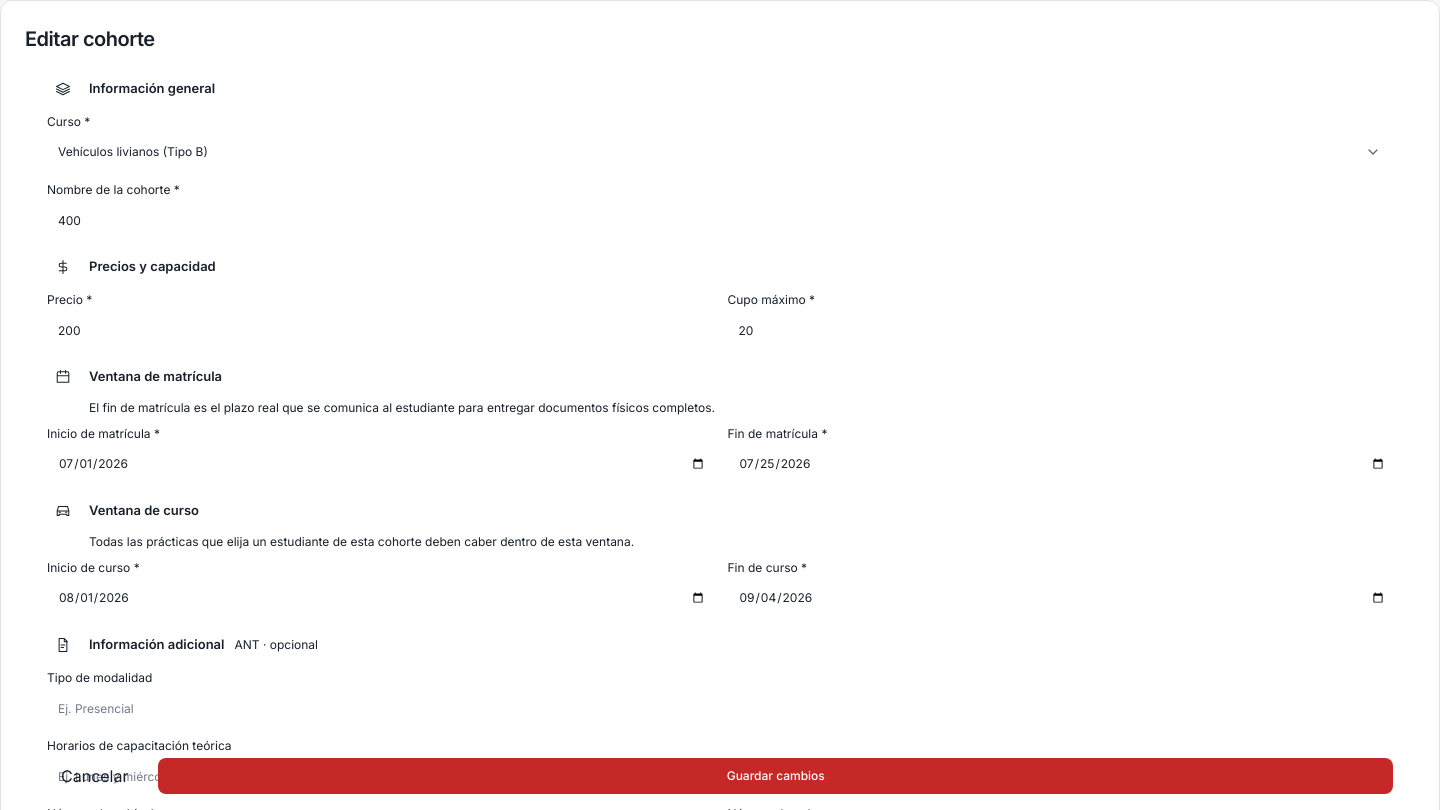
Test: EditCohortPage › conflicto de versión (409) y recarga › un 409 de campo se marca en el campo y también ofrece recargar
Expected: the field labelled "Nombre de la cohorte" is shown, x1=47 y1=203 x2=1393 y2=237
Type "Presencial" into the field labelled "Tipo de modalidad" at (720, 708), box x1=47 y1=691 x2=1393 y2=725
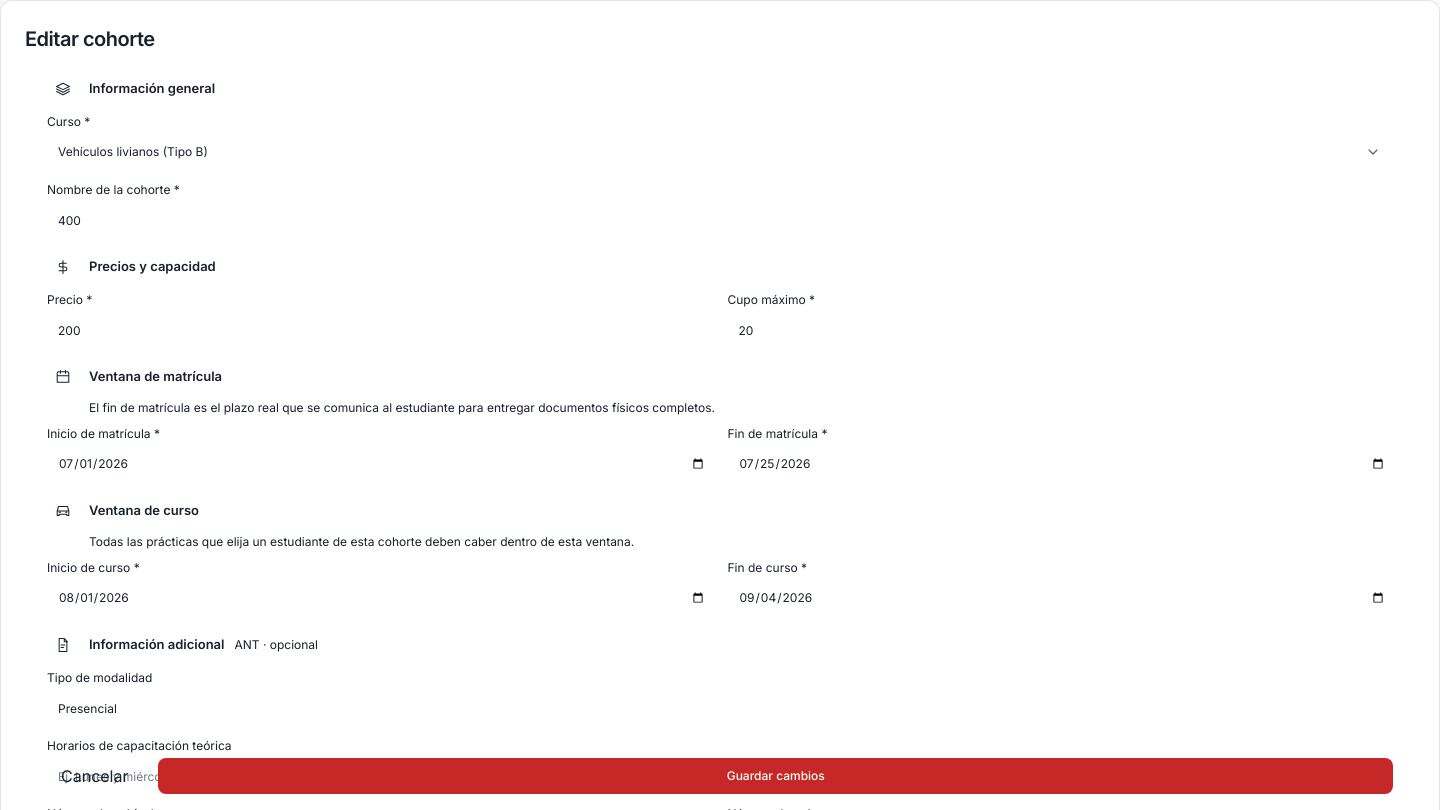
Click the button "Guardar cambios" at (776, 776), box x1=158 y1=758 x2=1393 y2=794
(page scrolled)
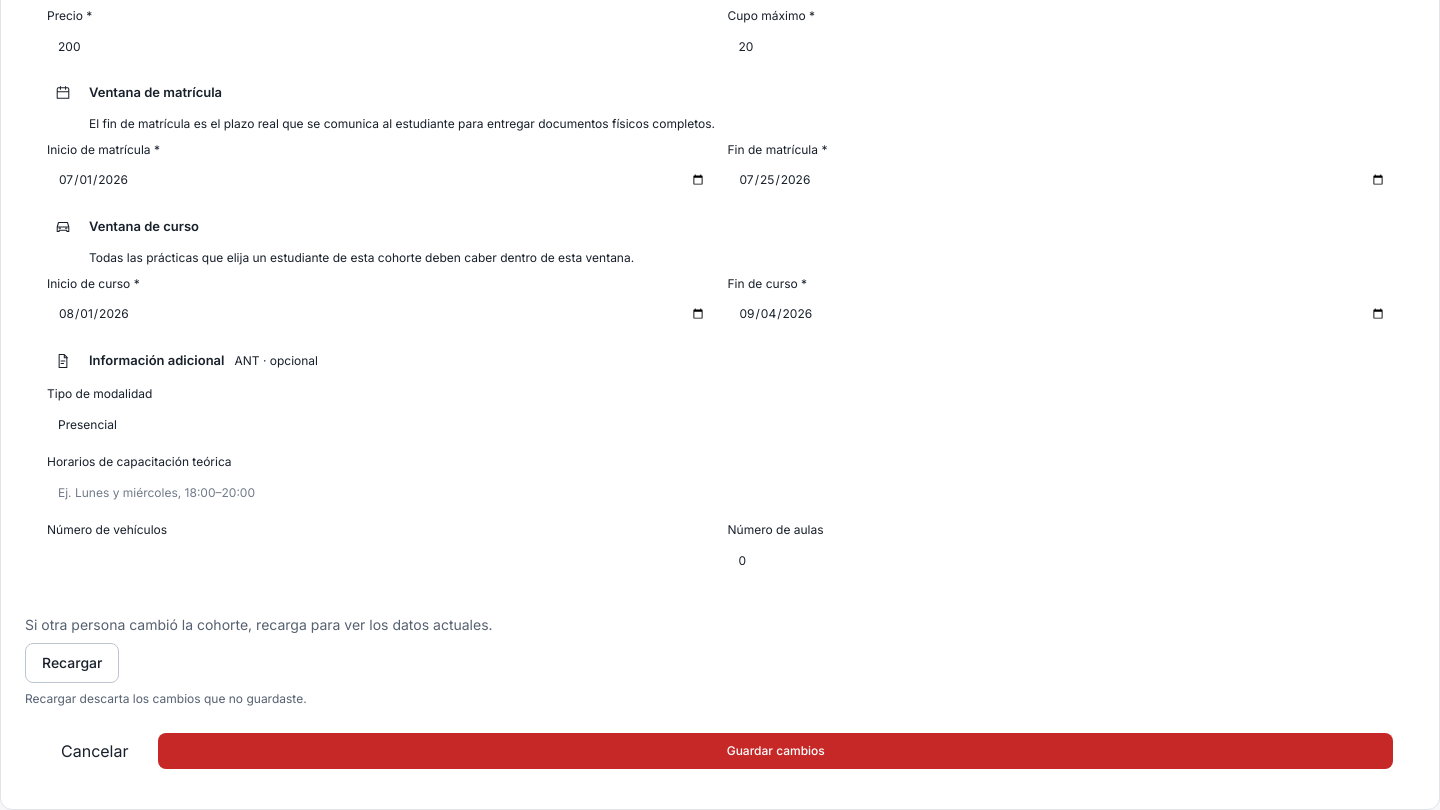
Expected: the text "Si otra persona cambió la cohorte, recarga para ver los datos actuales." is shown, x1=25 y1=615 x2=493 y2=635
Expected: the button "Recargar" is shown, x1=25 y1=643 x2=120 y2=683
